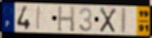3: (79, 7, 93, 32)
4: (16, 4, 32, 31)
H: (57, 6, 76, 33)
I: (120, 6, 128, 35), (35, 5, 41, 31)
X: (98, 7, 117, 34)
